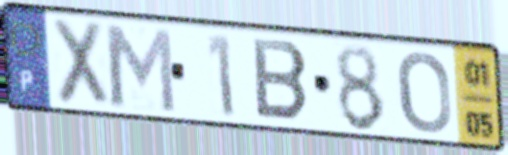1: (205, 32, 238, 120)
8: (333, 41, 389, 133)
B: (250, 35, 312, 125)
M: (100, 20, 179, 116)
O: (394, 48, 454, 136)
X: (48, 15, 112, 112)
